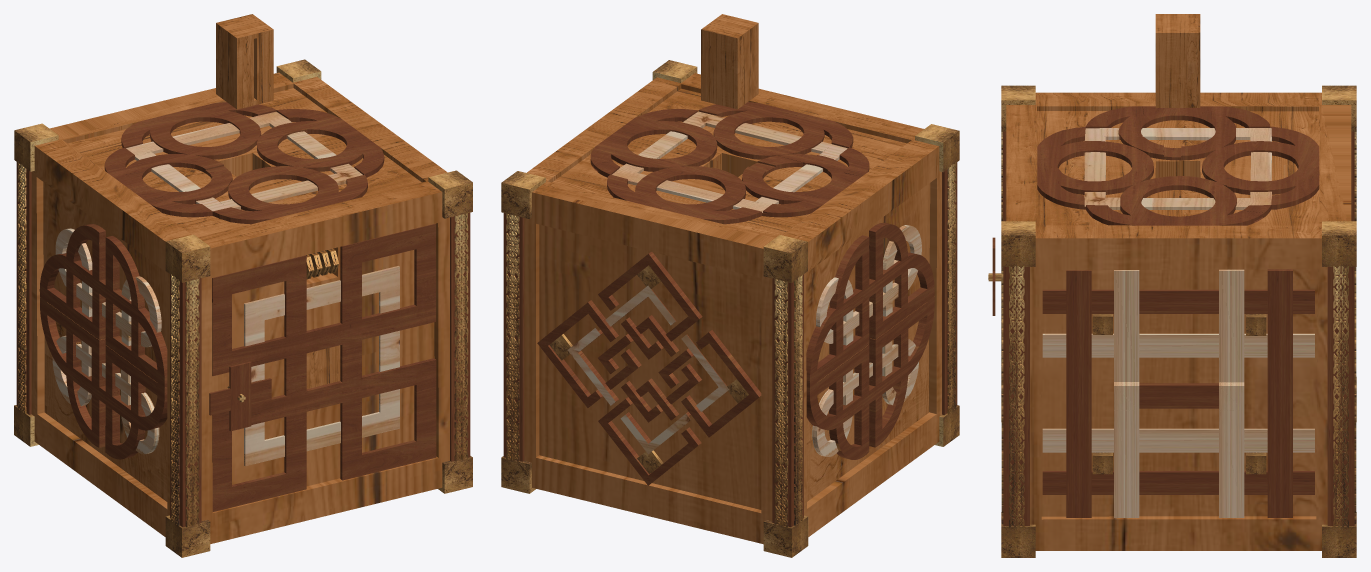
The picture shows the model from 3 angles, left to right: view 1: azimuth 30°, elevation 25°; view 2: azimuth 150°, elevation 25°; view 3: azimuth 270°, elevation 25°; orthographic projection. The views are drawn at different scales.
Parts seen in each view (by area): view 1: box, exit, panel2, key3, panel1; view 2: box, exit, panel2; view 3: box, panel2, panel4.
Boxes of the visible parts, x1,y1,x2,y2 form: box: (14, 59, 472, 557); exit: (40, 297, 167, 501); panel2: (216, 14, 273, 109); key3: (209, 361, 271, 431); panel1: (306, 345, 340, 388); box: (501, 60, 959, 557); exit: (806, 296, 934, 501); panel2: (701, 14, 758, 109); box: (1001, 85, 1356, 557); panel2: (1155, 14, 1200, 107); panel4: (1139, 383, 1218, 408).
Size of the model in its own units: 2.08 by 2.94 by 2.13.
5 materials, 5 textured.
